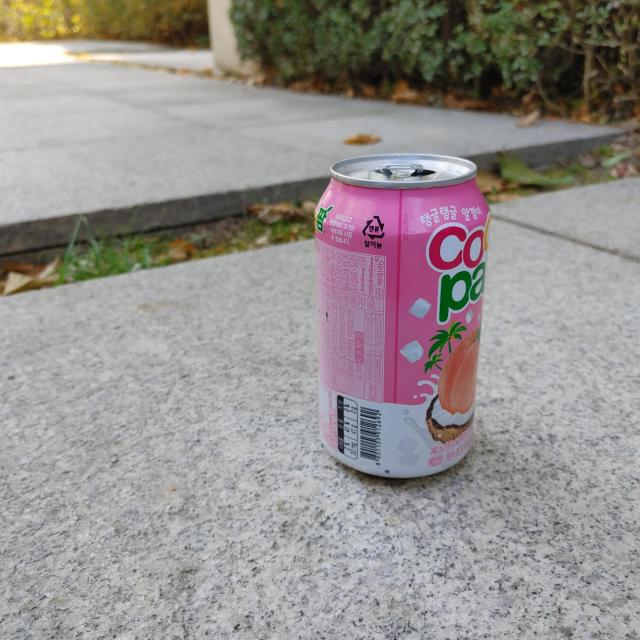can: (315, 153, 492, 478)
